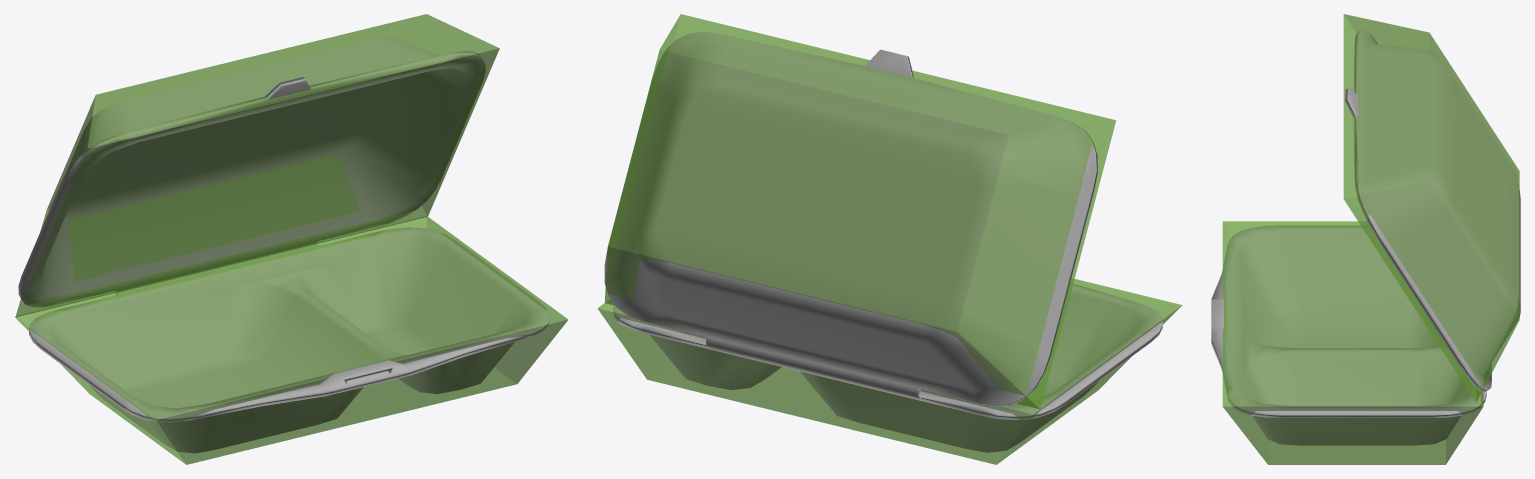
The model's file is p_Packaging_01_b.fbx.
3 renders of one model, left to right at view 1: azimuth 30°, elevation 25°; view 2: azimuth 150°, elevation 25°; view 3: azimuth 270°, elevation 25°, orthographic. The views are drawn at different scales.
Parts seen in each view (by area): view 1: p_Packaging_01_b_col, p_Packaging_01_b_LOD0; view 2: p_Packaging_01_b_LOD0, p_Packaging_01_b_col; view 3: p_Packaging_01_b_col, p_Packaging_01_b_LOD0.
Part boxes in pixels (left/top/right/bottom): p_Packaging_01_b_col: left=15, top=14, right=568, bottom=464; p_Packaging_01_b_LOD0: left=18, top=37, right=549, bottom=453; p_Packaging_01_b_LOD0: left=604, top=31, right=1162, bottom=452; p_Packaging_01_b_col: left=597, top=14, right=1182, bottom=464; p_Packaging_01_b_col: left=1222, top=14, right=1519, bottom=464; p_Packaging_01_b_LOD0: left=1211, top=29, right=1520, bottom=445.
Size of what is drawn, in the model's own units: 26.49 by 19.12 by 18.45.
